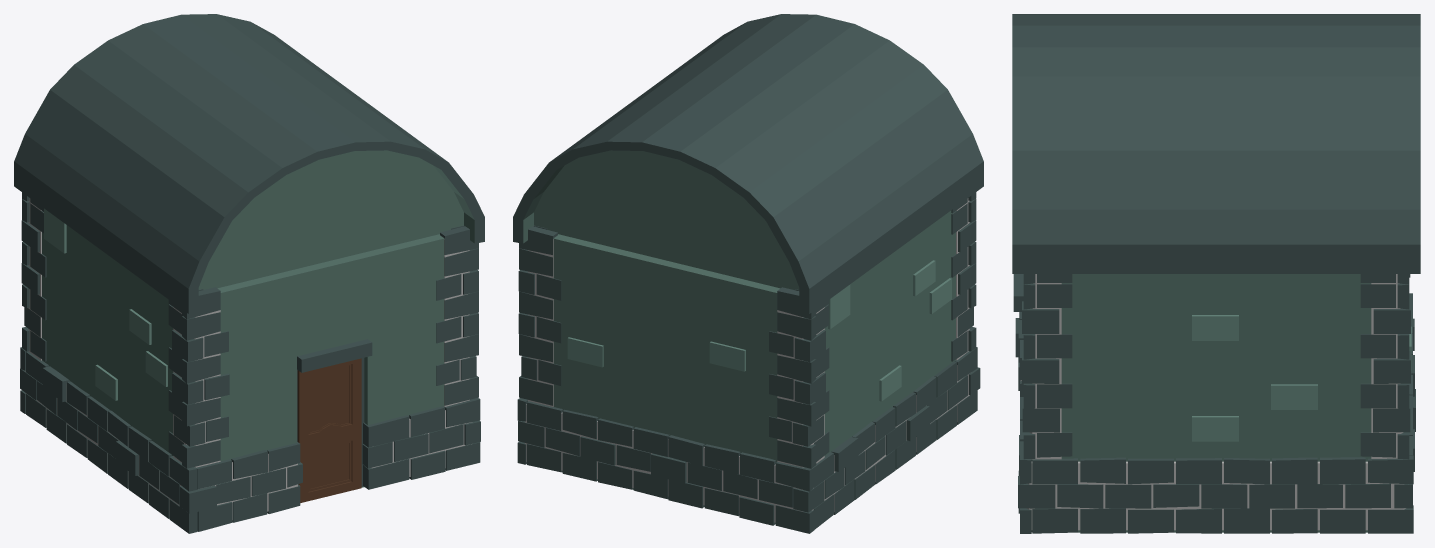
The model's file is 1Story_RoundRoof_Mat.gltf.
The picture shows the model from 3 angles, left to right: view 1: azimuth 30°, elevation 25°; view 2: azimuth 150°, elevation 25°; view 3: azimuth 270°, elevation 25°; orthographic projection. The views are drawn at different scales.
Visible parts, largest first — view 1: o 1Story_RoundRoof_Mat_Cube.008; view 2: o 1Story_RoundRoof_Mat_Cube.008; view 3: o 1Story_RoundRoof_Mat_Cube.008.
Boxes of the visible parts, <box> form: o 1Story_RoundRoof_Mat_Cube.008: <box>14,14,484,533</box>; o 1Story_RoundRoof_Mat_Cube.008: <box>513,14,983,533</box>; o 1Story_RoundRoof_Mat_Cube.008: <box>1012,14,1420,533</box>.
Bounding box in the file's own units: 2.09 × 2.38 × 2.13.
